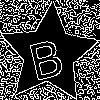B: (24, 29, 67, 82)
